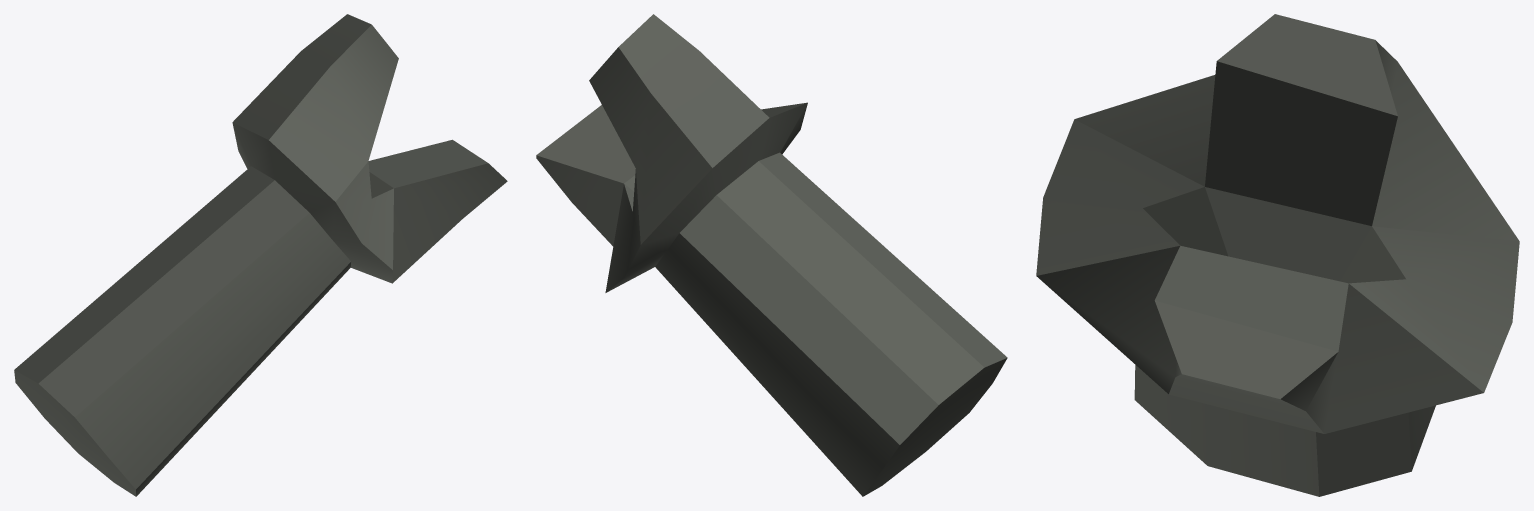
Rendered from boat_ignition02.fbx.
The picture shows the model from 3 angles, left to right: view 1: azimuth 30°, elevation 25°; view 2: azimuth 150°, elevation 25°; view 3: azimuth 270°, elevation 25°; orthographic projection. The views are drawn at different scales.
Parts seen in each view (by area): view 1: boat_ignition01; view 2: boat_ignition01; view 3: boat_ignition01.
Part boxes in pixels (x1=…): boat_ignition01: x1=14, y1=14, x2=507, y2=496; boat_ignition01: x1=536, y1=14, x2=1007, y2=496; boat_ignition01: x1=1036, y1=14, x2=1519, y2=496.
Size of the model in its own units: 4.44 by 3.84 by 2.46.
